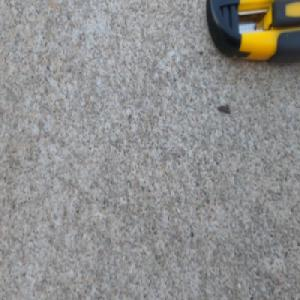Cutter: (202, 0, 300, 68)
